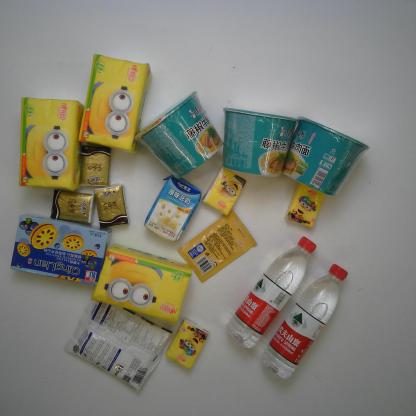Dessert: (10, 215, 110, 285)
Drink: (259, 262, 349, 382), (223, 235, 316, 350)
Instant Noodles: (134, 90, 224, 181), (282, 115, 372, 197), (220, 105, 298, 178)
Milk: (141, 174, 202, 244)
Seasoner: (66, 294, 173, 393), (176, 209, 256, 285)
Tissue: (92, 244, 192, 321), (78, 53, 154, 154), (18, 96, 83, 192), (164, 318, 210, 371), (200, 167, 248, 216), (285, 177, 328, 228), (94, 185, 131, 230), (48, 188, 94, 224), (77, 141, 110, 187)
